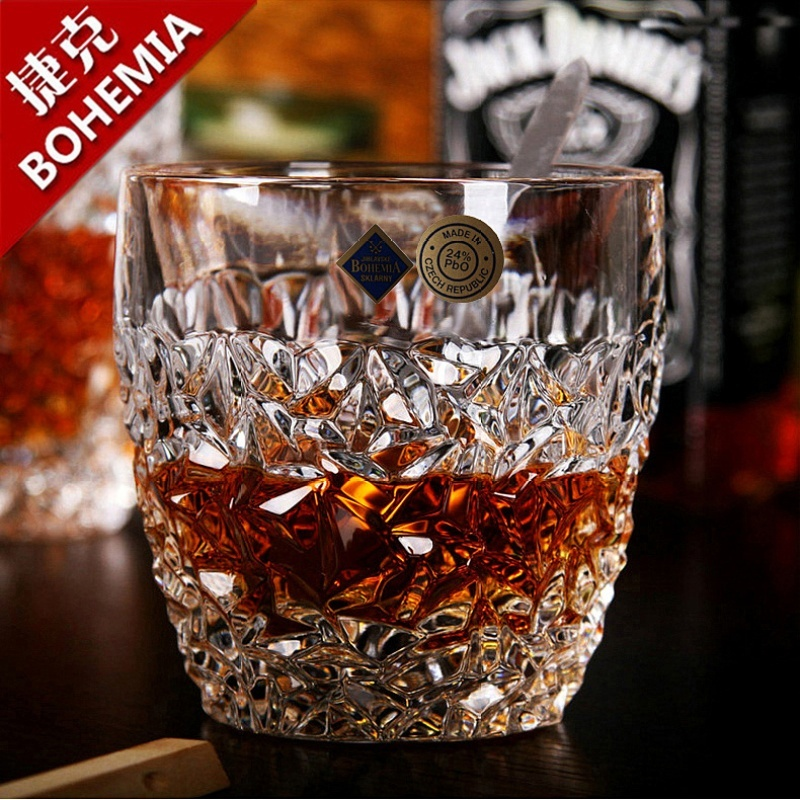whiskey: (111, 157, 639, 733)
